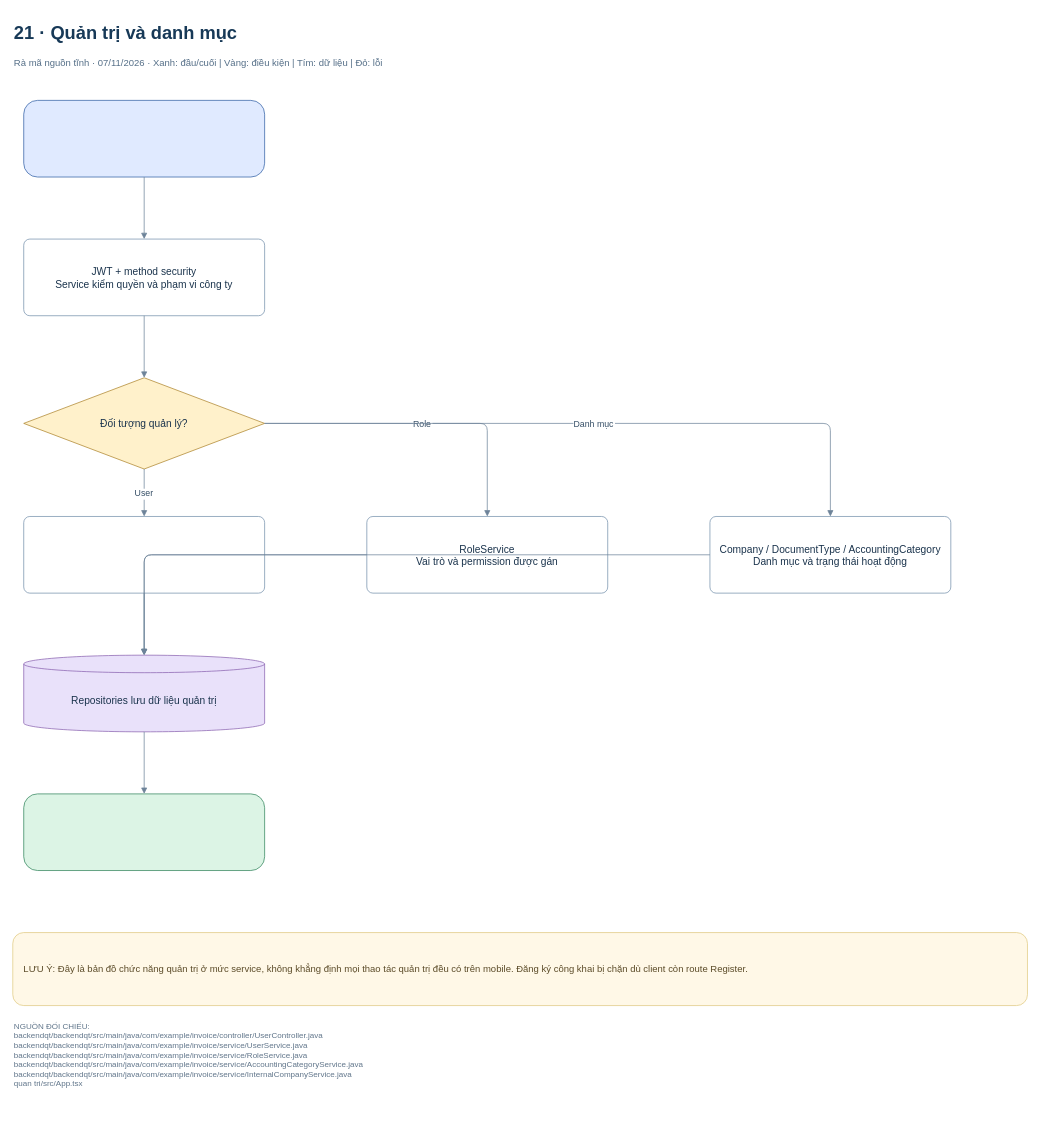
Some shapes in this 1040 by 1134 pixel diagram are drawn without their labels. The shapes that lost their labels are listed below. From the top down, each one's centre as x and y in pixels, then its label:
At point 144,138: "ADMIN mở Users / Roles / Categories Các chức năng danh mục khác theo authority".
At point 144,554: "UserService Tạo / cập nhật / trạng thái / mật khẩu".
At point 144,832: "Quyền/danh mục được dùng ở các request sau Pipeline chỉ nạp loại/danh mục active".
